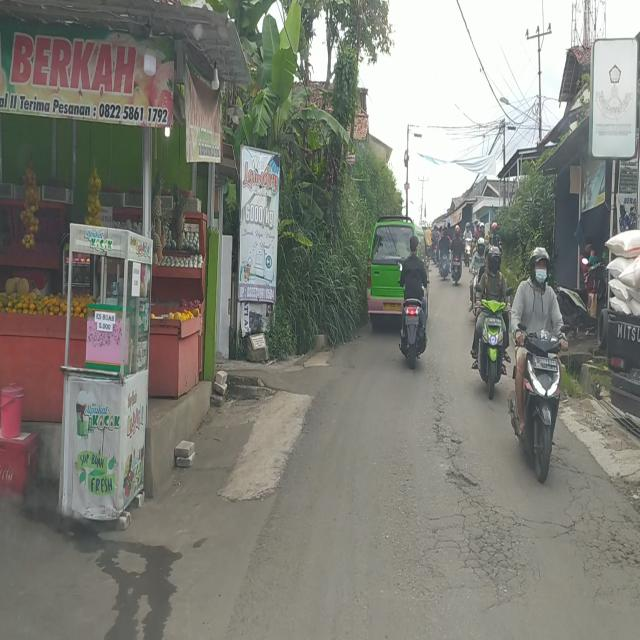Drain Hole: (437, 394, 536, 609), (556, 468, 640, 575)
